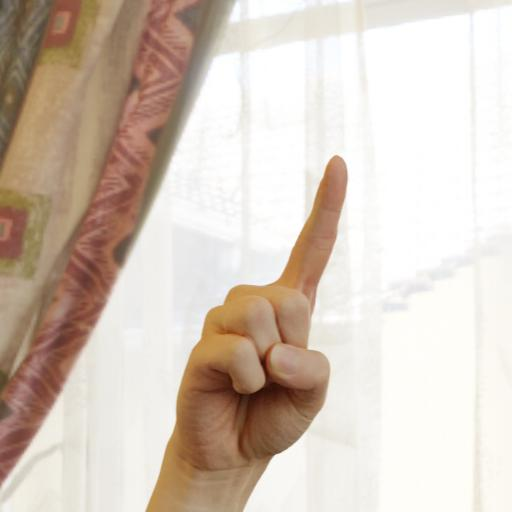Z: (158, 145, 356, 482)
